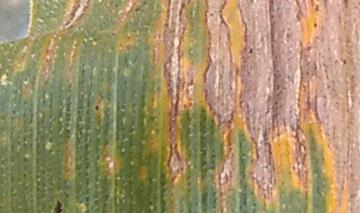tarspot: (51, 198, 66, 213), (109, 1, 125, 11), (339, 56, 352, 67), (311, 19, 321, 33), (245, 45, 257, 56), (91, 103, 102, 112)
